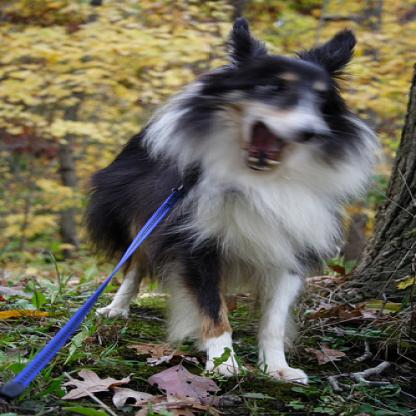Shetland_sheepdog: (76, 14, 394, 393)
